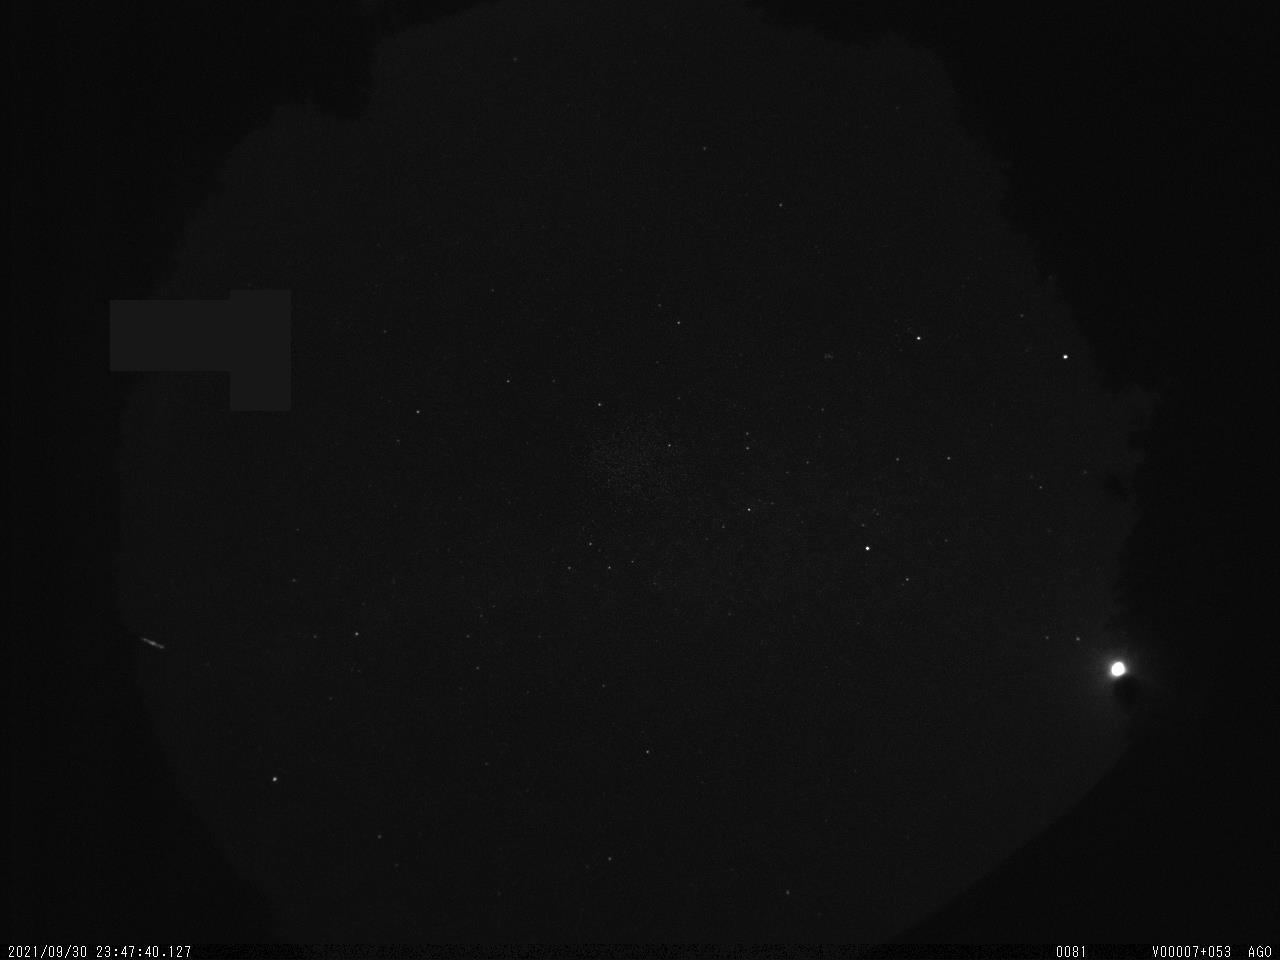meteor: (134, 630, 173, 658)
